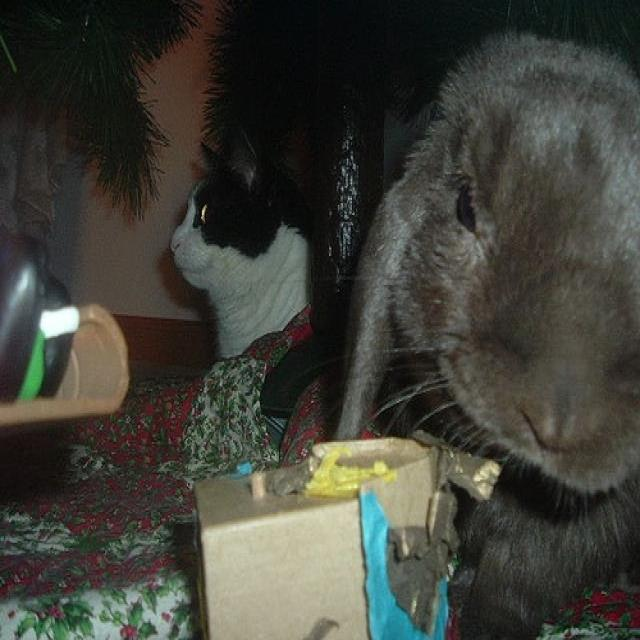cat: (168, 138, 328, 388)
